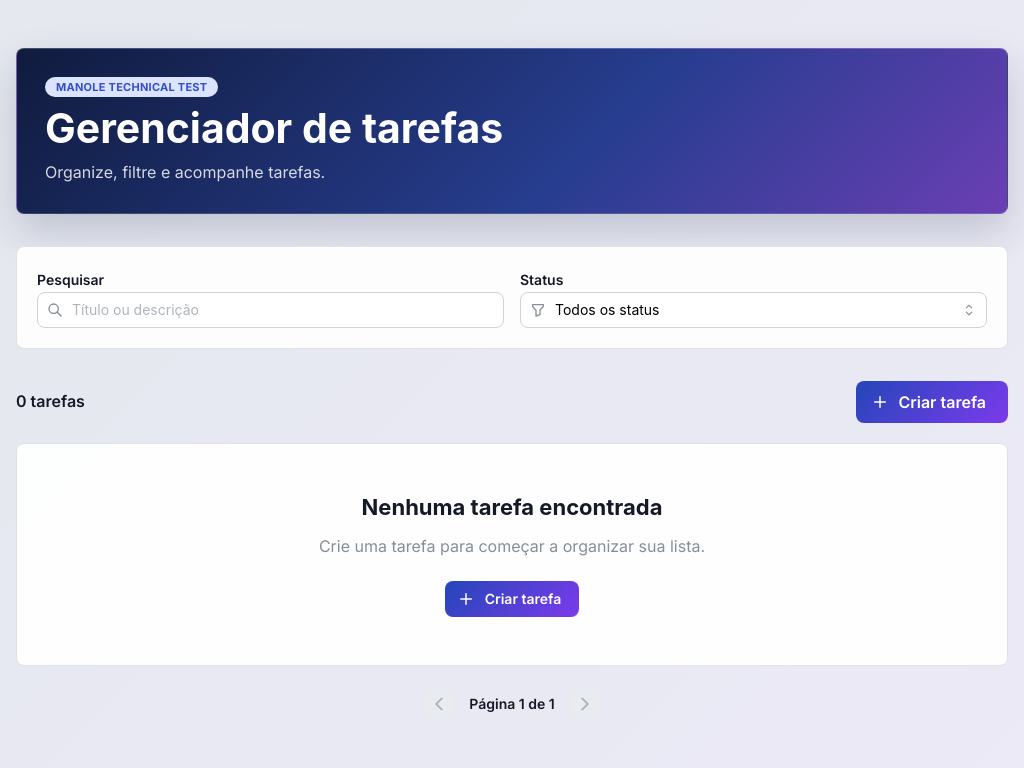
App › should open the create task modal
Step 1. Click the 1st button "Criar tarefa" → (932, 402), box [856, 381, 1008, 423]
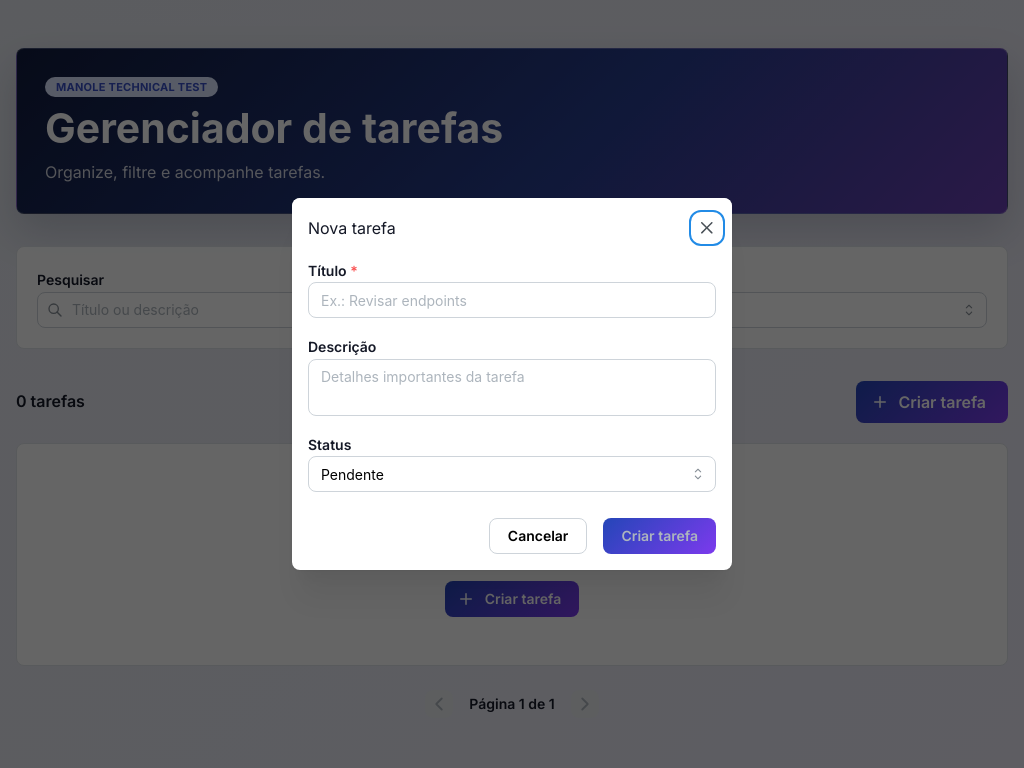
expect the dialog is shown: met, box [292, 198, 732, 570]
expect the heading "Nova tarefa" is shown: met, box [308, 220, 396, 236]
